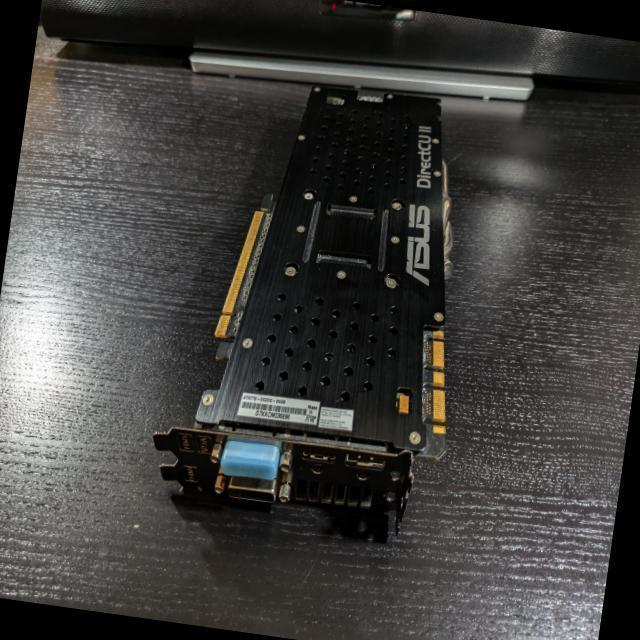GPU: (158, 82, 448, 532)
